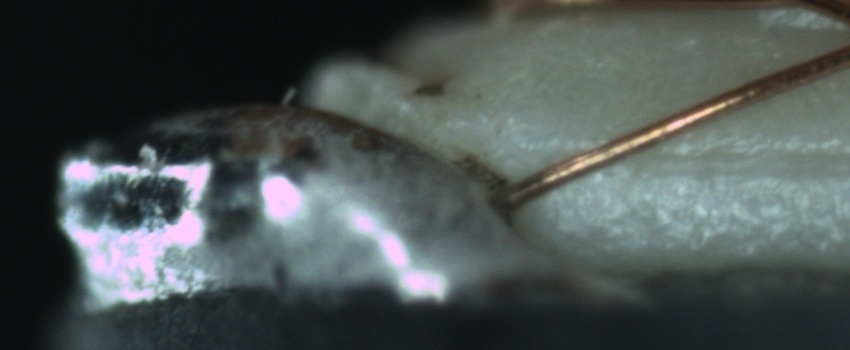DL: (572, 119, 843, 194)
